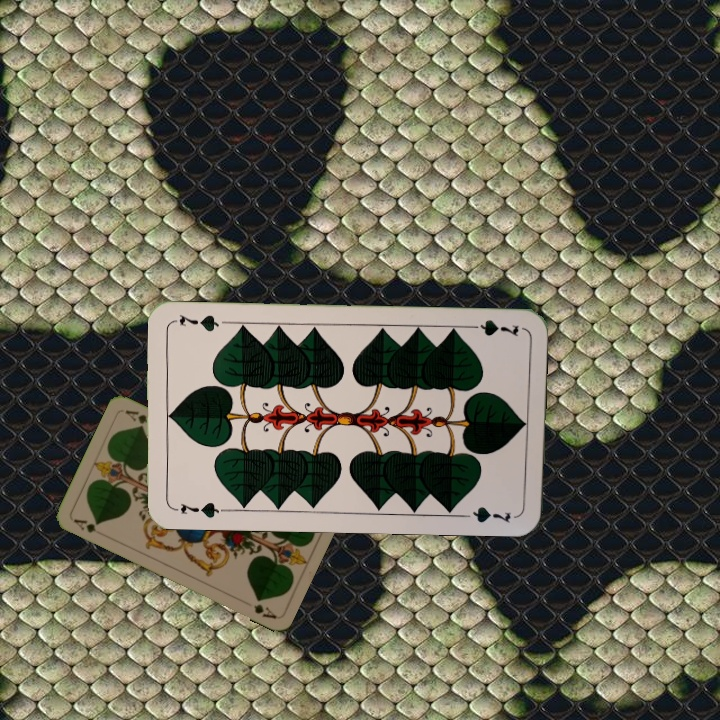G7: (462, 316, 522, 339), (168, 499, 228, 521)
GA: (70, 515, 107, 538)
